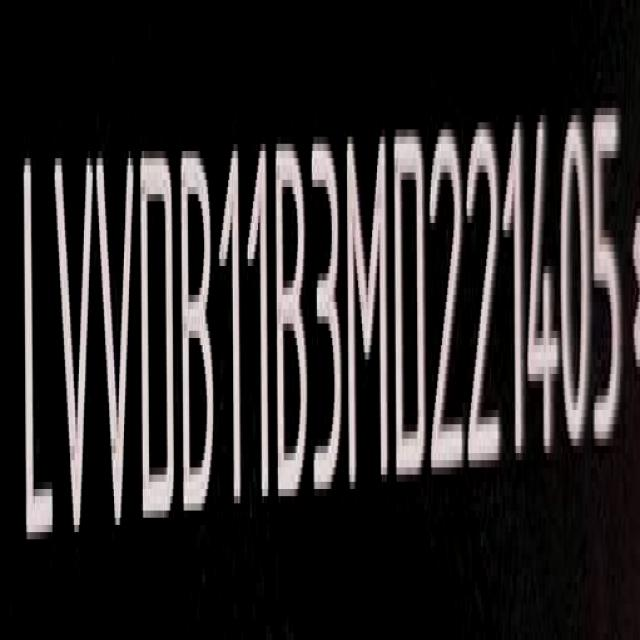0: (559, 108, 590, 464)
1: (217, 139, 243, 527), (246, 135, 271, 521), (502, 113, 528, 477)
2: (429, 123, 464, 494), (467, 120, 501, 485)
3: (312, 134, 345, 509)
4: (525, 110, 561, 471)
5: (593, 104, 626, 458)
B: (184, 143, 218, 529), (276, 136, 308, 517)
D: (139, 141, 175, 536), (394, 123, 430, 492)
L: (20, 150, 55, 557)
M: (348, 131, 389, 500)
V: (54, 148, 93, 548), (99, 146, 138, 543)
